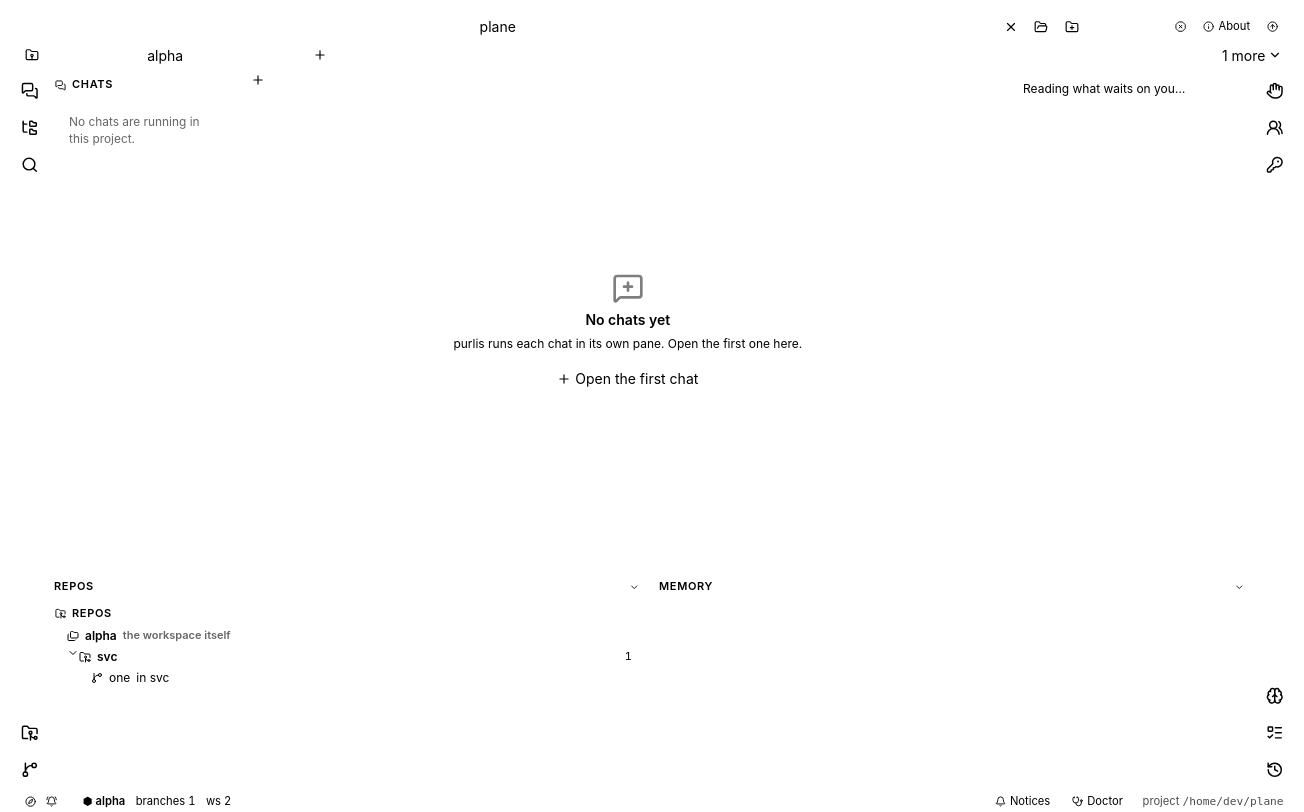
Test: Explorer in sections (#1677) › draws Workspaces and Files, each open, and the repos and branches in the Repos view (#1737)
Click the tab named "Explorer" at (30, 128), box x1=12 y1=110 x2=47 y2=145
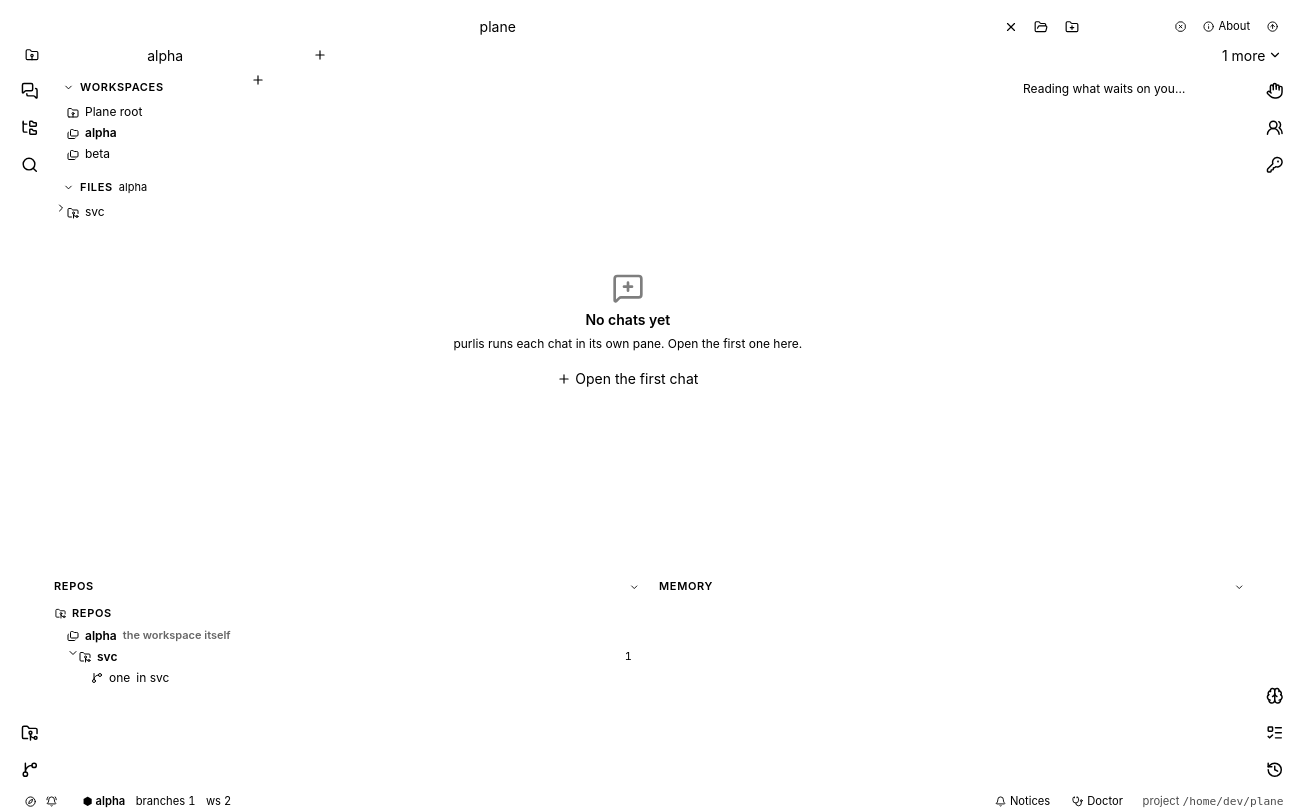
Check: the element named "Repos and branches" is shown, box x1=55 y1=626 x2=644 y2=688
Check: the element named "Workspaces of this project" is shown, box x1=55 y1=102 x2=233 y2=165
Check: the element named "Files of" is shown, box x1=55 y1=202 x2=233 y2=223
